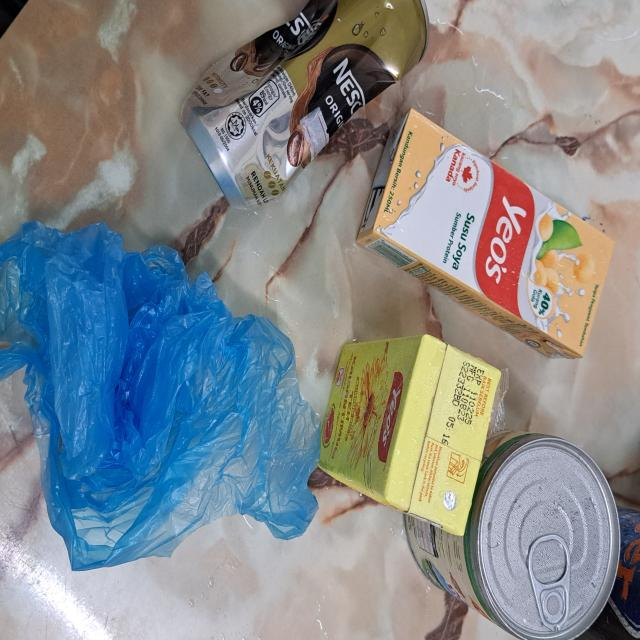can: (186, 0, 433, 213), (408, 423, 619, 640)
drink carton: (360, 104, 614, 355), (330, 324, 500, 541)
plastic bag: (0, 213, 322, 567)
pop tab: (522, 521, 573, 626)
